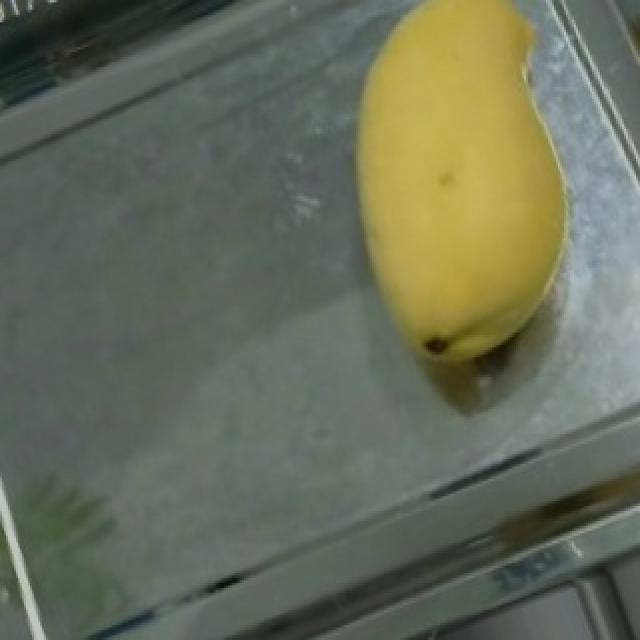fruit: (280, 0, 638, 340)
